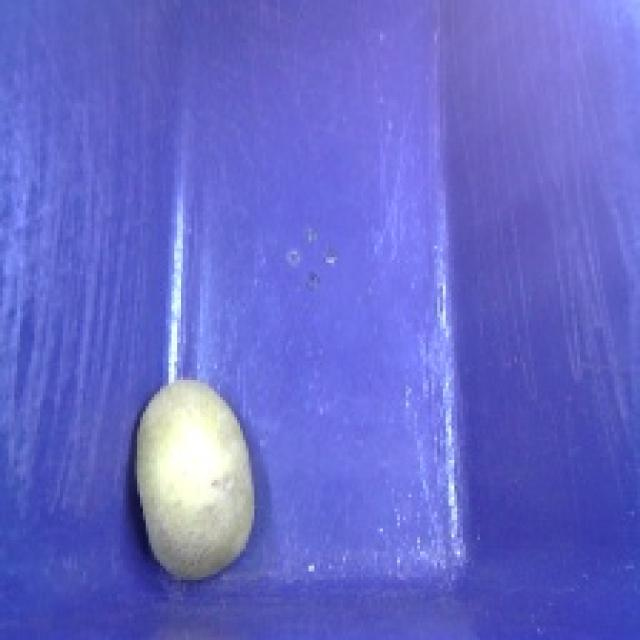potato: (116, 373, 276, 593)
